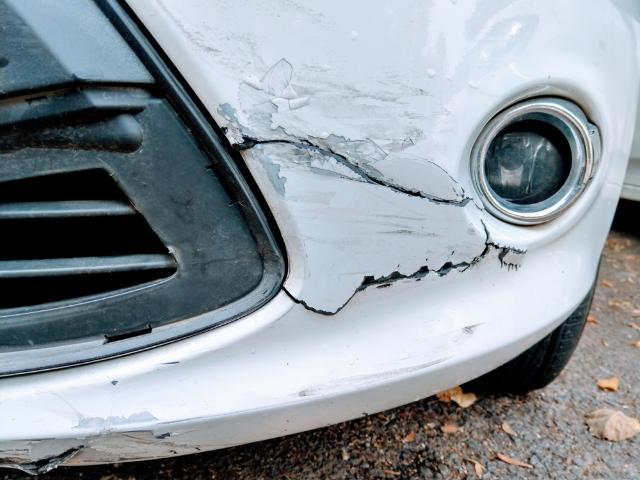crack: (235, 135, 530, 316), (0, 444, 88, 475)
scratch: (217, 58, 448, 173), (295, 319, 484, 400), (0, 414, 213, 468)
